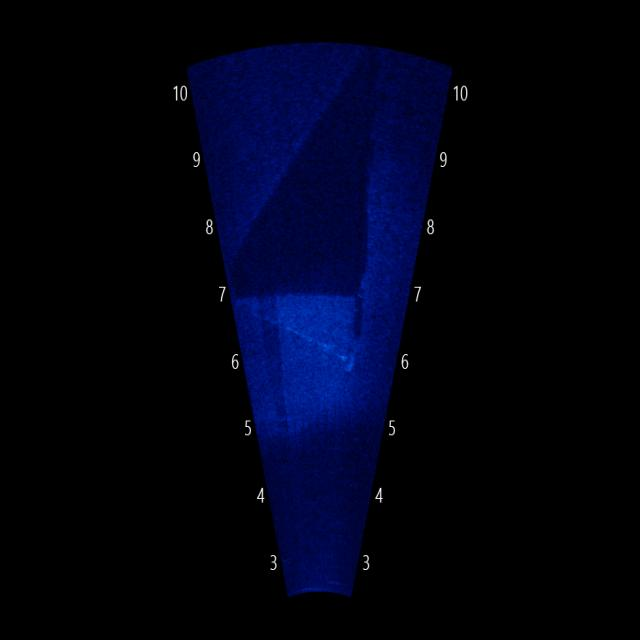triangle: (238, 262, 384, 380)
